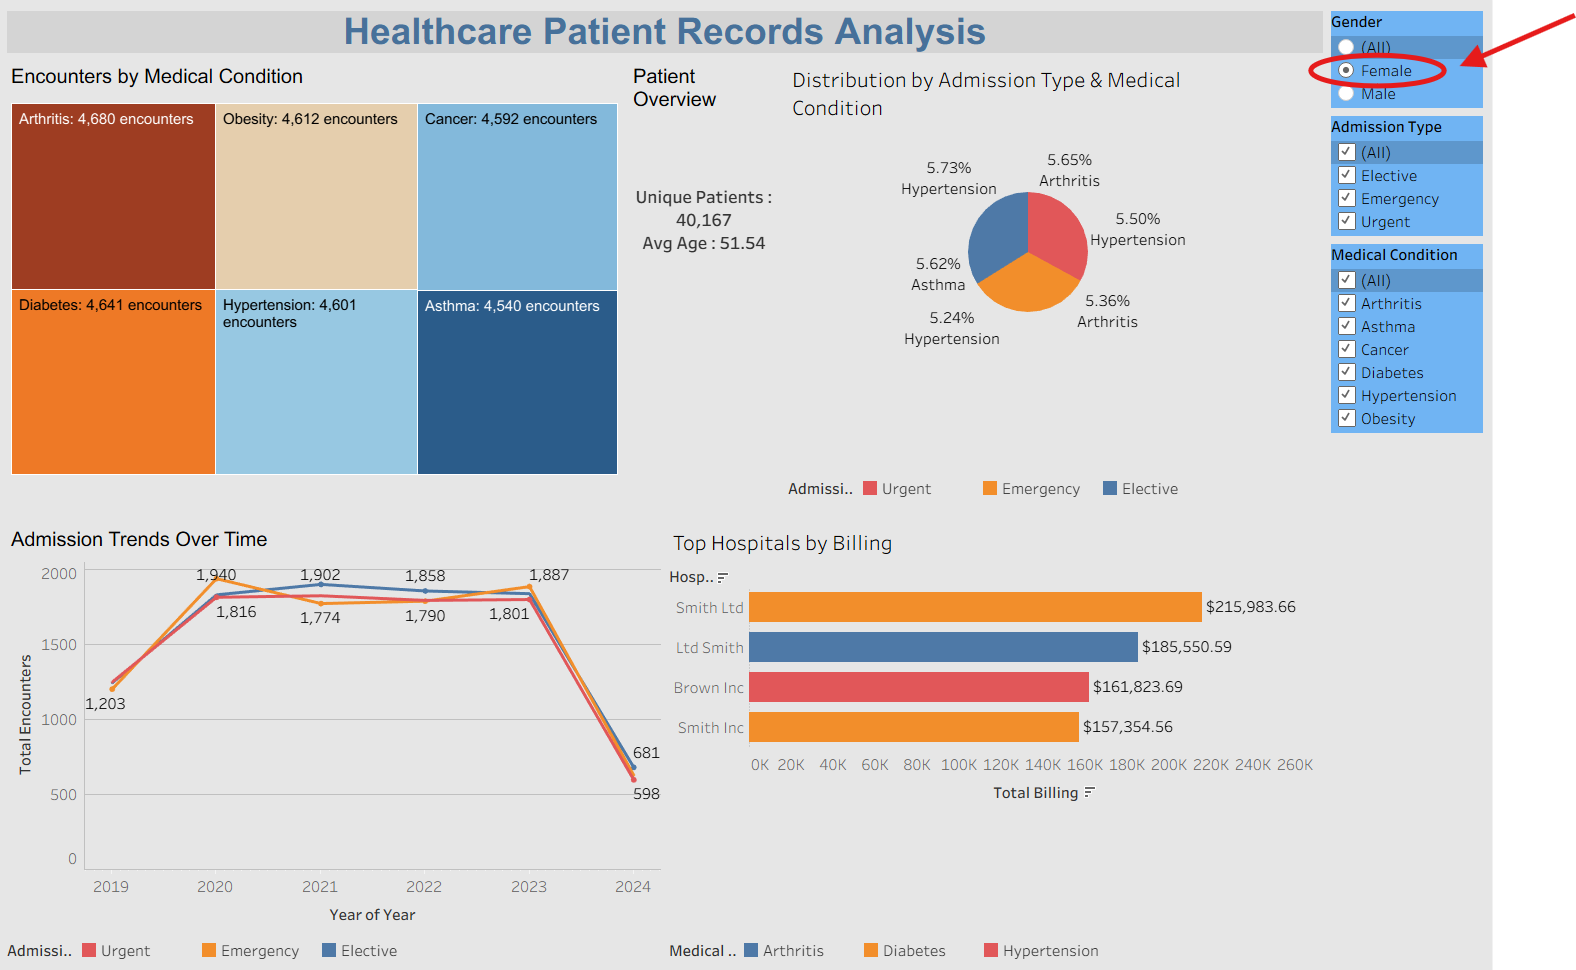

Layout of this report page (visuals, bound fields, positions):
{"tool":"tableau","page":{"name":"Dashboard 1","canvas":[1000,1000],"units":"permille","ordinal":0},"visuals":[{"type":"title","box":[5.3,9.8,882.7,61]},{"type":"filter","title":"Line chart","param":"[federated.06jkjin07ps6i610dw3mp0pje1j1].[none:Gender:nk]","box":[888,9.8,106.7,128.1]},{"type":"worksheet","title":"Treemap","mark":"Automatic","box":[5.3,70.7,414.7,459.7]},{"type":"worksheet","title":"KPI Card","mark":"Text","box":[420,70.7,106,459.7]},{"type":"worksheet","title":"Pie Chart","mark":"Pie","box":[526,70.7,362,414]},{"type":"filter","title":"Line chart","param":"[federated.1xdfog40y3rj0q154j4id0phkzal].[none:Admission_Type:nk]","box":[888,137.8,106.7,156.1]},{"type":"filter","title":"Bar Chart","param":"[federated.1xdfog40y3rj0q154j4id0phkzal].[none:Medical_Condition:nk]","box":[888,293.9,106.7,240.2]},{"type":"legend","title":"Pie Chart","param":"[federated.1v9iu6k0n4gwi512gk5gi0wq4o9t].[none:Admission_Type:nk]","box":[526,484.7,362,45.7]},{"type":"worksheet","title":"Line chart","mark":"Automatic","rows":["Total_Encounters"],"cols":["Year"],"box":[5.3,530.5,441.3,412.3]},{"type":"worksheet","title":"Bar Chart","mark":"Bar","rows":["Hospital"],"cols":["Total_Billing"],"box":[446.7,530.5,441.3,412.3]},{"type":"legend","title":"Line chart","param":"[federated.06jkjin07ps6i610dw3mp0pje1j1].[none:Admission_Type:nk]","box":[5.3,942.8,441.3,47.5]},{"type":"legend","title":"Bar Chart","param":"[federated.12lzu1u1jyx8w215z0fwa1gshfv0].[none:Medical_condition:nk]","box":[446.7,942.8,441.3,47.5]}]}

Visuals, with their boxes on the dashboard's canvas, which has no fixed pixel size, in thousandths of its width and height (x1, y1, x2, y2). These are canvas units, not pixel positions in the 1576x970 screenshot, which may show the page scaled, cropped or inside an application window:
title: (x1=5, y1=10, x2=888, y2=71)
"Line chart" filter: (x1=888, y1=10, x2=995, y2=138)
"Treemap" worksheet: (x1=5, y1=71, x2=420, y2=530)
"KPI Card" worksheet (Text marks): (x1=420, y1=71, x2=526, y2=530)
"Pie Chart" worksheet (Pie marks): (x1=526, y1=71, x2=888, y2=485)
"Line chart" filter: (x1=888, y1=138, x2=995, y2=294)
"Bar Chart" filter: (x1=888, y1=294, x2=995, y2=534)
"Pie Chart" legend: (x1=526, y1=485, x2=888, y2=530)
"Line chart" worksheet: (x1=5, y1=530, x2=447, y2=943)
"Bar Chart" worksheet (Bar marks): (x1=447, y1=530, x2=888, y2=943)
"Line chart" legend: (x1=5, y1=943, x2=447, y2=990)
"Bar Chart" legend: (x1=447, y1=943, x2=888, y2=990)
